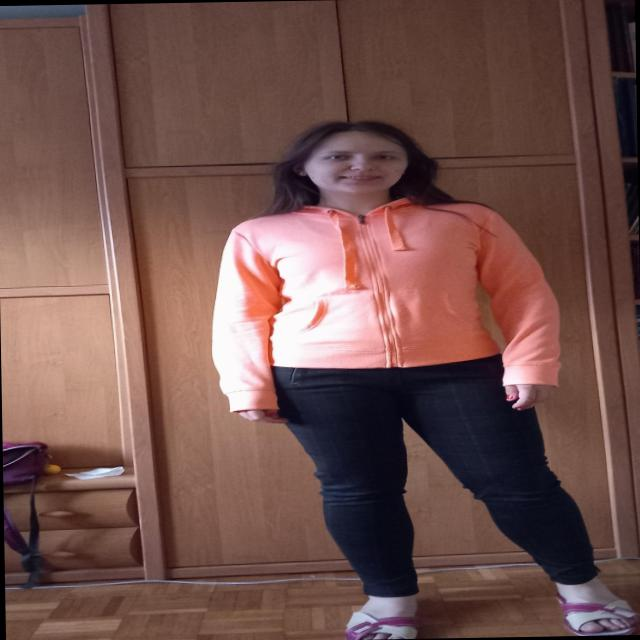pants: (263, 351, 600, 598)
sweater: (208, 193, 563, 412)
